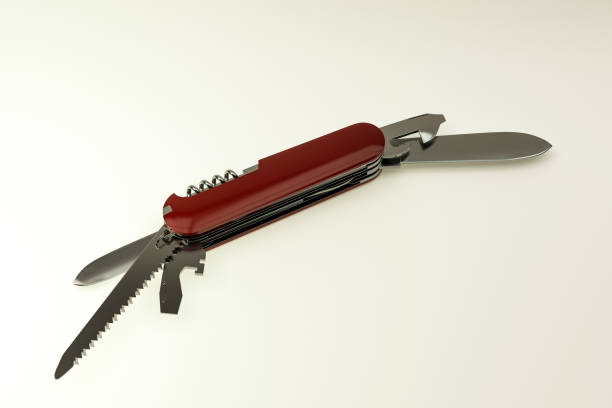knife: (53, 223, 181, 381), (69, 223, 185, 288), (373, 129, 555, 166), (378, 109, 448, 162), (159, 247, 207, 319)
